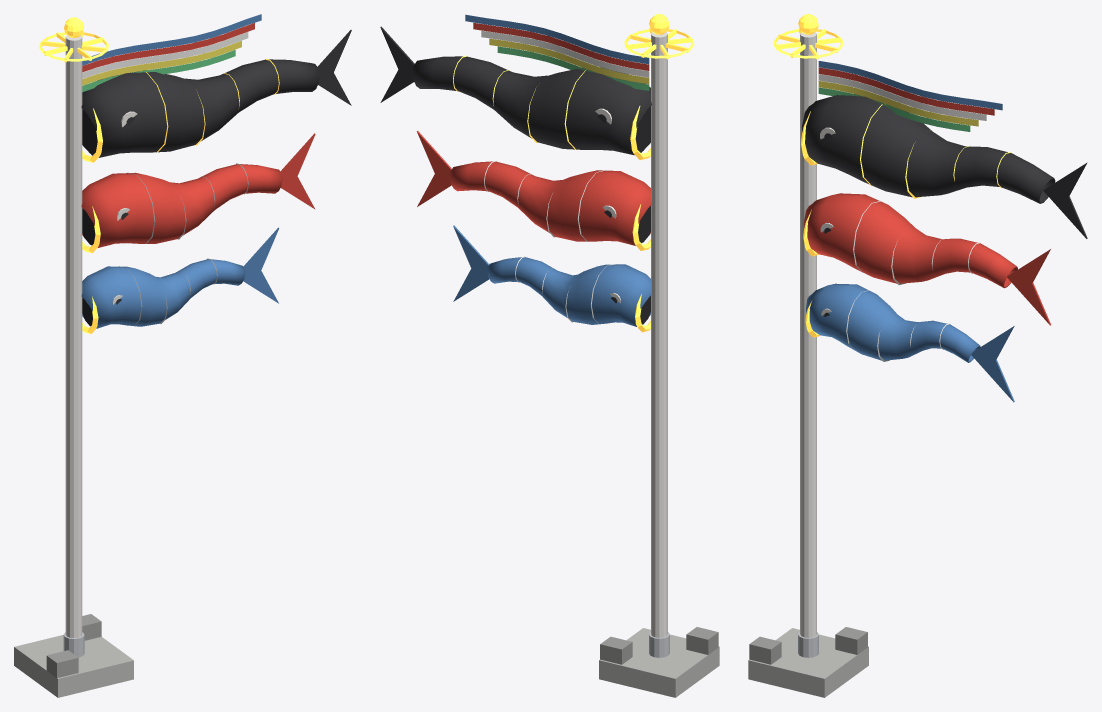
Rendered from jp_koinobori.glb.
3 views of the same model, side by side, from view 1: azimuth 30°, elevation 25°; view 2: azimuth 150°, elevation 25°; view 3: azimuth 330°, elevation 25° (orthographic).
Visible parts, largest first — view 1: jp_koinobori; view 2: jp_koinobori; view 3: jp_koinobori.
Boxes of the visible parts, left/top/right/bottom form: jp_koinobori: left=14, top=14, right=351, bottom=697; jp_koinobori: left=380, top=14, right=719, bottom=697; jp_koinobori: left=748, top=14, right=1087, bottom=697.
Bounding box in the file's own units: 1.74 × 3.45 × 0.42.
